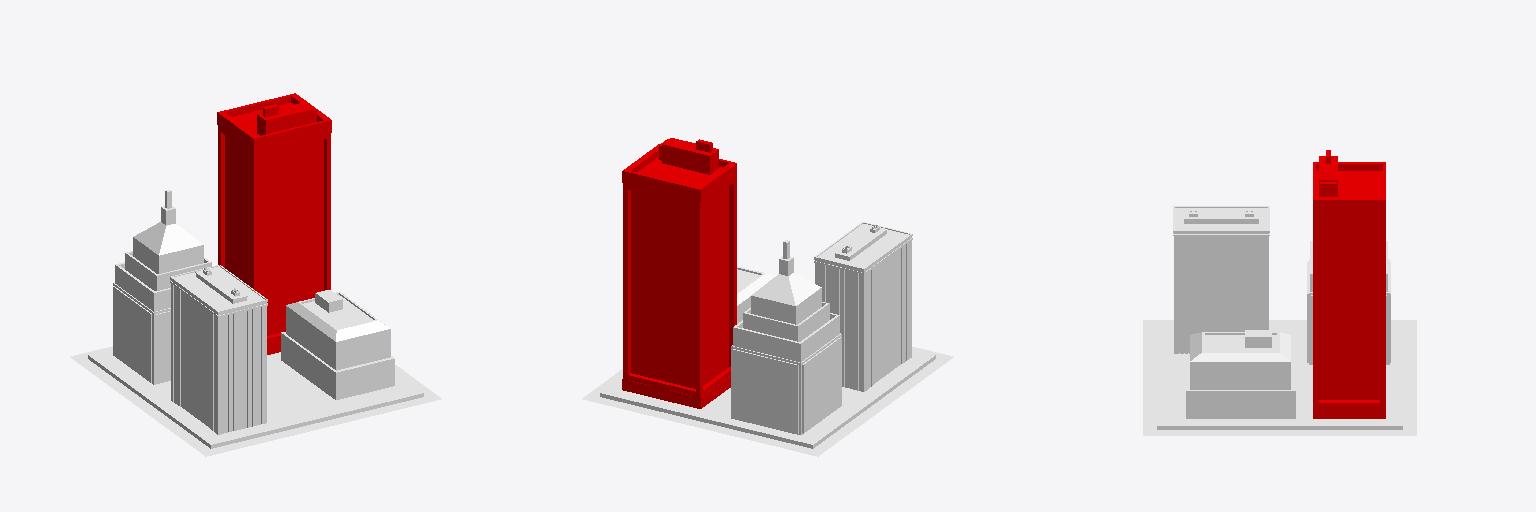
File: BlockTest_02.obj
3 views of the same model, side by side, from view 1: azimuth 30°, elevation 25°; view 2: azimuth 150°, elevation 25°; view 3: azimuth 270°, elevation 25° (orthographic).
Parts seen in each view (by area): view 1: Plane; view 2: Plane; view 3: Plane.
Boxes of the visible parts, x1,y1,x2,y2 form: Plane: [70, 93, 441, 456]; Plane: [582, 138, 953, 456]; Plane: [1143, 150, 1416, 435].
Size of the model in its own units: 2 by 1.97 by 2.